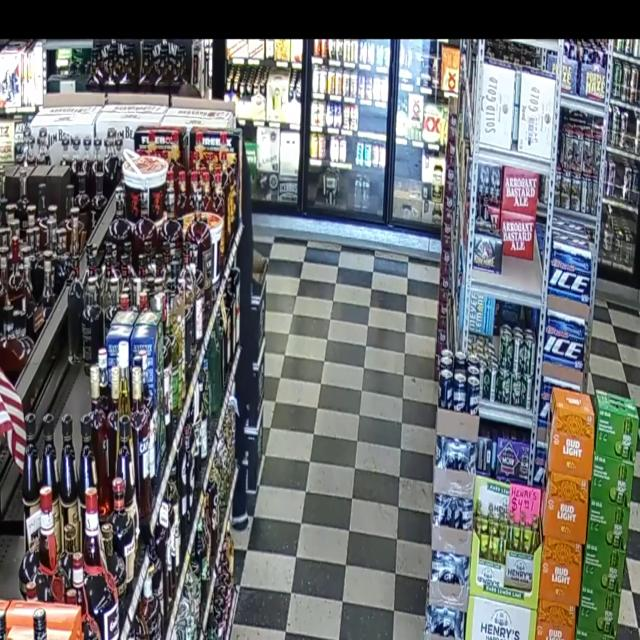normal: (224, 130, 291, 487)
